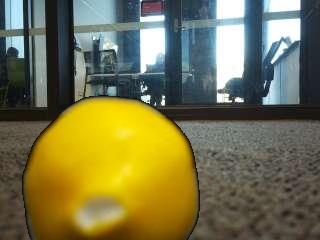lemon: (24, 99, 195, 240)
